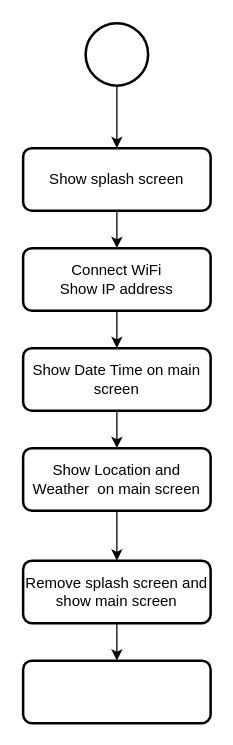
Some shapes in this 233 by 745 pixel diagram are drawn without their labels. The shapes that lost their labels are listed below. From the top down, each one's centre as x and y in pixels, then its label:
At [116,53]: "Start".
At [116,691]: "Setup BT and wait for configuration".
